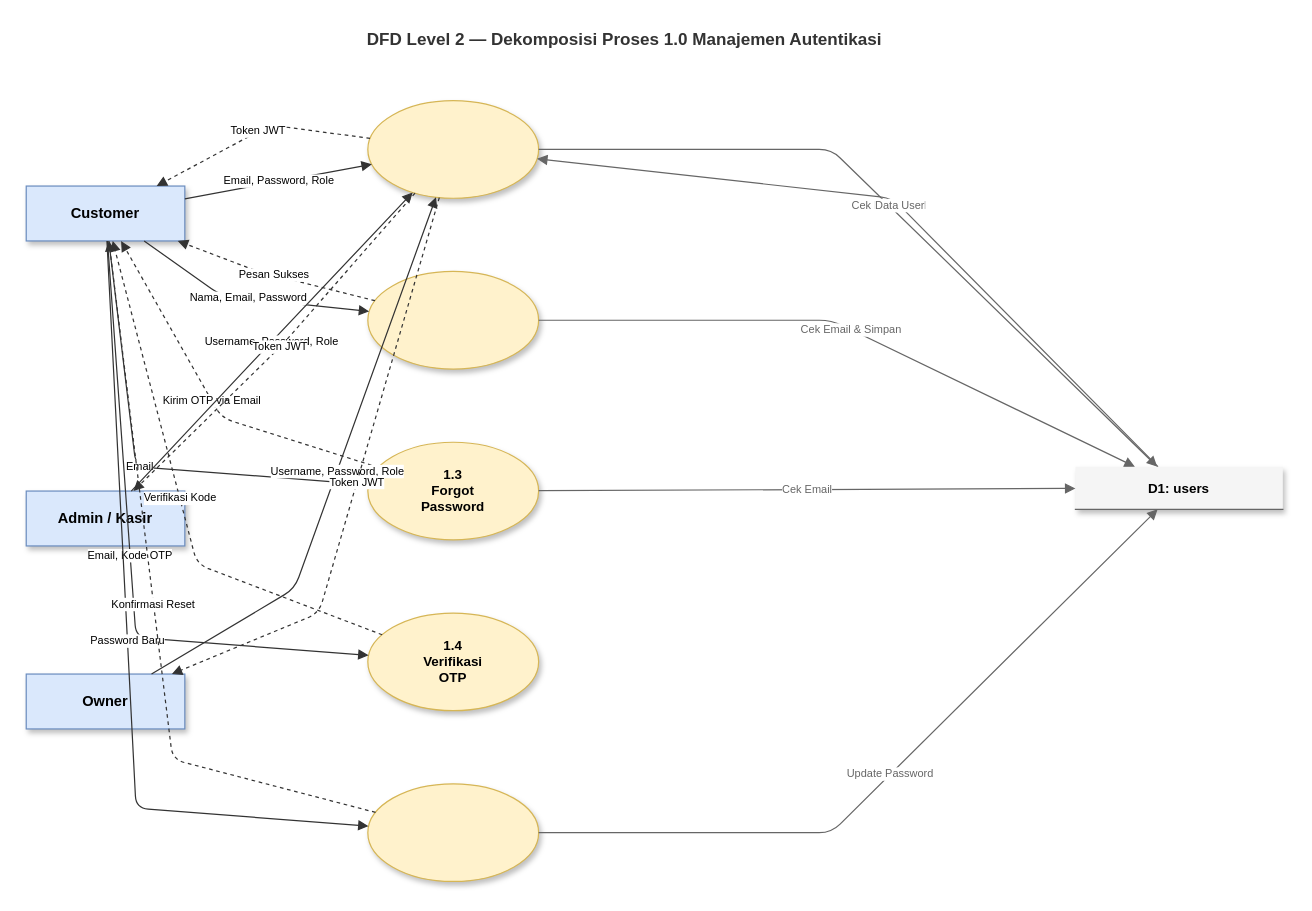
The diagram is 1312 pixels wide and 911 high, and some of its shapes have lost their labels. The shapes that lost their labels are listed below. From the top down, each one's centre as x and y in pixels, then its label:
the point at 454,151: 1.1 Login
the point at 454,321: 1.2 Registrasi Customer
the point at 454,834: 1.5 Reset Password
